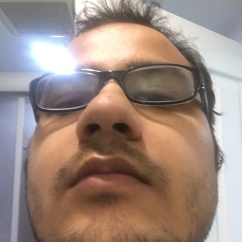glasses: (22, 68, 217, 106)
